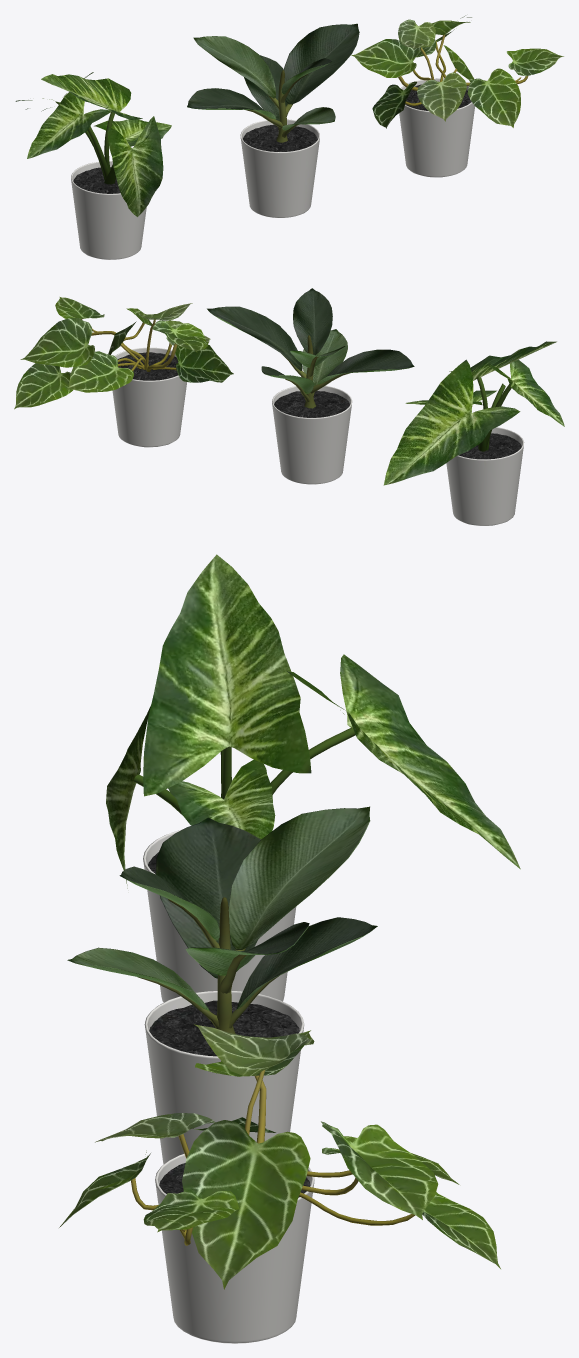
File: fejka_sztuczna_roslina_donicz_zest_3_szt_40630064.glb
3 views of the same model, one above another, from view 1: azimuth 30°, elevation 25°; view 2: azimuth 150°, elevation 25°; view 3: azimuth 270°, elevation 25° (orthographic). The views are drawn at different scales.
Parts seen in each view (by area): view 1: fejka_sztuczna_roslina_donicz_zest_3_szt_40630064; view 2: fejka_sztuczna_roslina_donicz_zest_3_szt_40630064; view 3: fejka_sztuczna_roslina_donicz_zest_3_szt_40630064.
Part boxes in pixels (<box>): fejka_sztuczna_roslina_donicz_zest_3_szt_40630064: <box>15,15,563,259</box>; fejka_sztuczna_roslina_donicz_zest_3_szt_40630064: <box>14,288,564,525</box>; fejka_sztuczna_roslina_donicz_zest_3_szt_40630064: <box>59,554,520,1343</box>.
Bounding box in the file's own units: 0.4515 × 0.1549 × 0.1741.
Materials: 1 (1 with a texture image).
